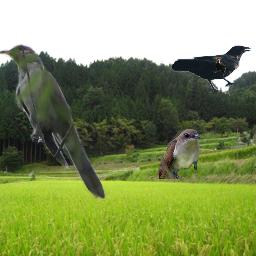Crow: (171, 45, 252, 93)
Cuckoo: (0, 44, 111, 201), (158, 129, 202, 179)
Woodpecker: (212, 56, 226, 73)
